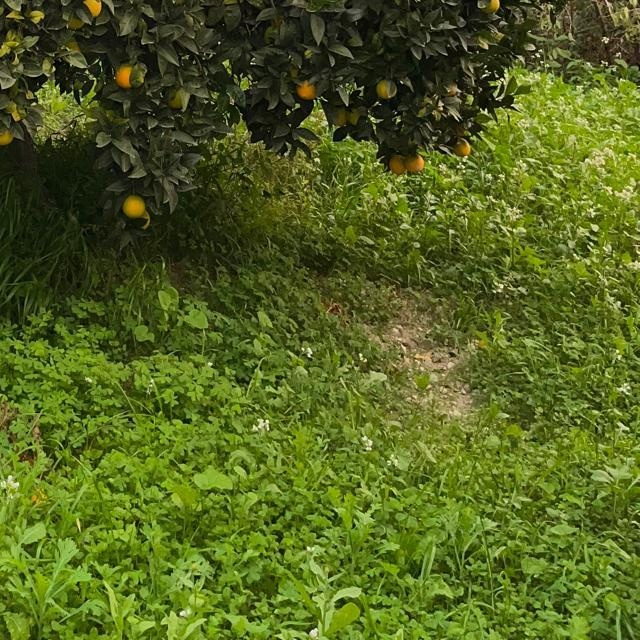orange: (391, 150, 423, 174), (113, 62, 141, 88), (165, 86, 191, 110), (122, 193, 146, 217), (452, 132, 474, 158), (374, 77, 396, 99), (295, 78, 317, 98), (386, 152, 404, 174), (0, 120, 16, 144), (82, 0, 102, 18), (331, 105, 345, 123), (483, 0, 501, 13), (135, 213, 151, 227), (351, 107, 363, 121), (445, 83, 457, 95)
